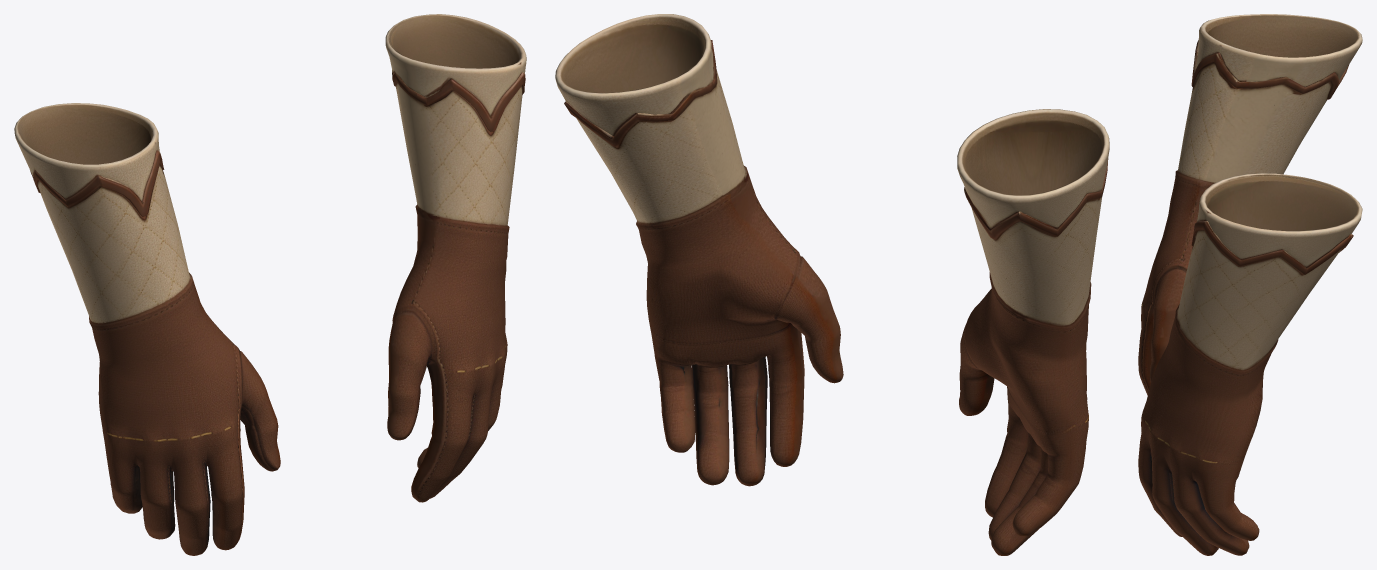
Rendered from warden-gloves-tripo.glb.
The picture shows the model from 3 angles, left to right: view 1: azimuth 30°, elevation 25°; view 2: azimuth 150°, elevation 25°; view 3: azimuth 270°, elevation 25°; orthographic projection. The views are drawn at different scales.
Parts seen in each view (by area): view 1: tripo_node_025bb89c-3d91-49c7-a89c-c29f1801c84c; view 2: tripo_node_025bb89c-3d91-49c7-a89c-c29f1801c84c; view 3: tripo_node_025bb89c-3d91-49c7-a89c-c29f1801c84c.
Boxes of the visible parts, bbox=[...] form: tripo_node_025bb89c-3d91-49c7-a89c-c29f1801c84c: bbox=[14, 14, 526, 555]; tripo_node_025bb89c-3d91-49c7-a89c-c29f1801c84c: bbox=[555, 14, 1109, 555]; tripo_node_025bb89c-3d91-49c7-a89c-c29f1801c84c: bbox=[1138, 14, 1362, 555].
Size of the model in its own units: 0.9995 by 0.8315 by 0.4341.
1 material, 1 textured.
